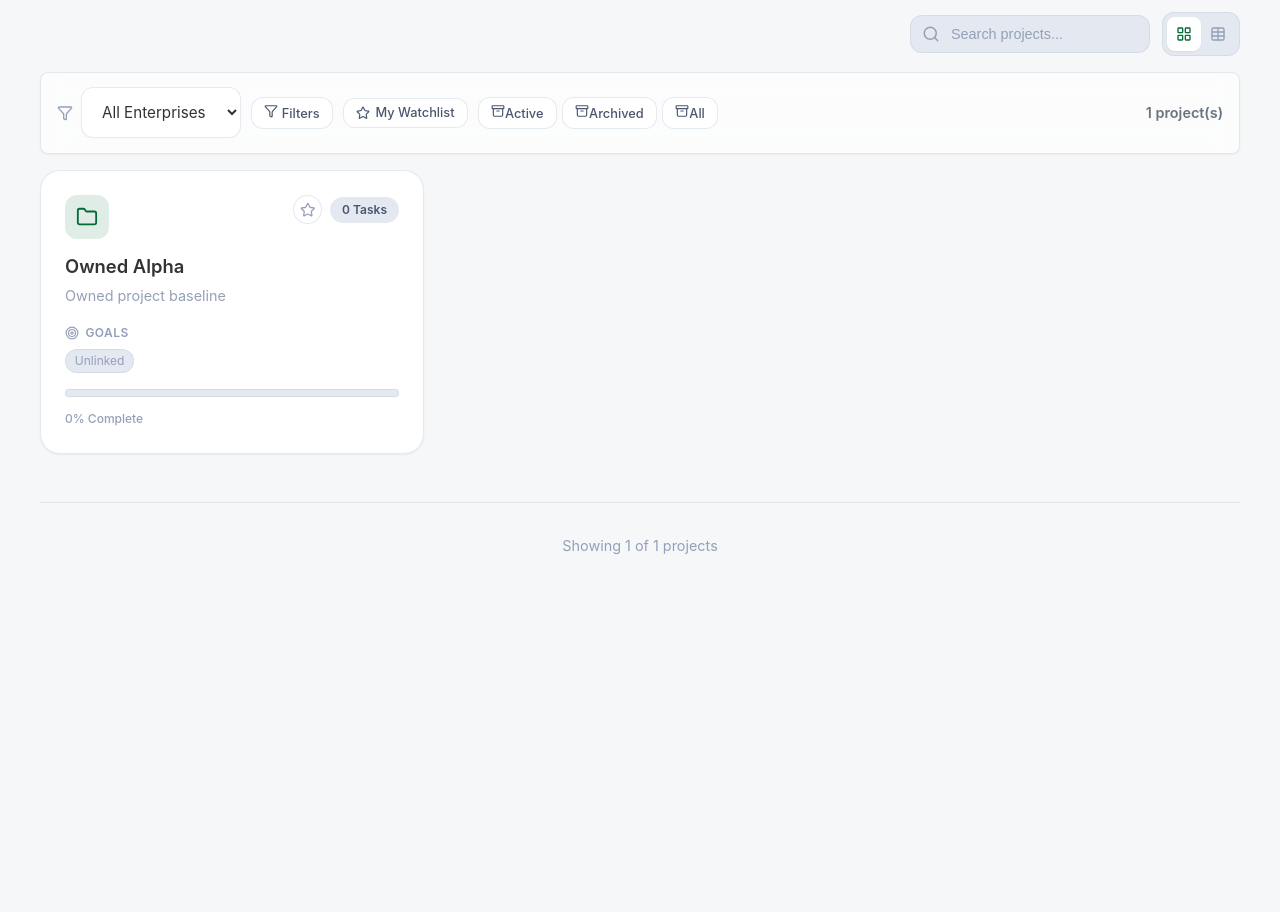
it: KanbanView ownership filtering › falls back to the current project list when an ownership-filter request fails
Click the button "Filters". click: (292, 113)
box: [251,97,333,129]
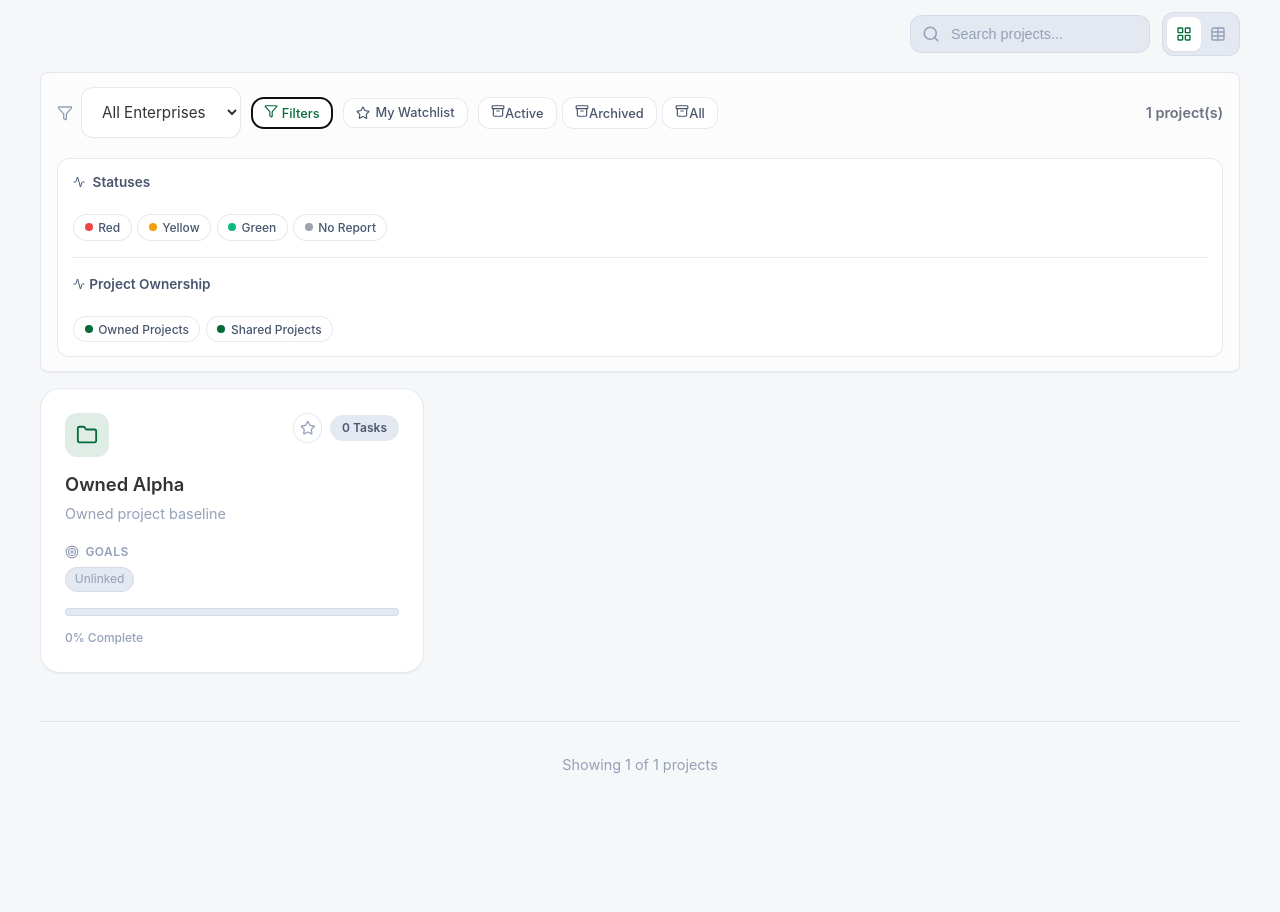
Click the button "Owned Projects". click: (137, 329)
box: [73,316,200,342]
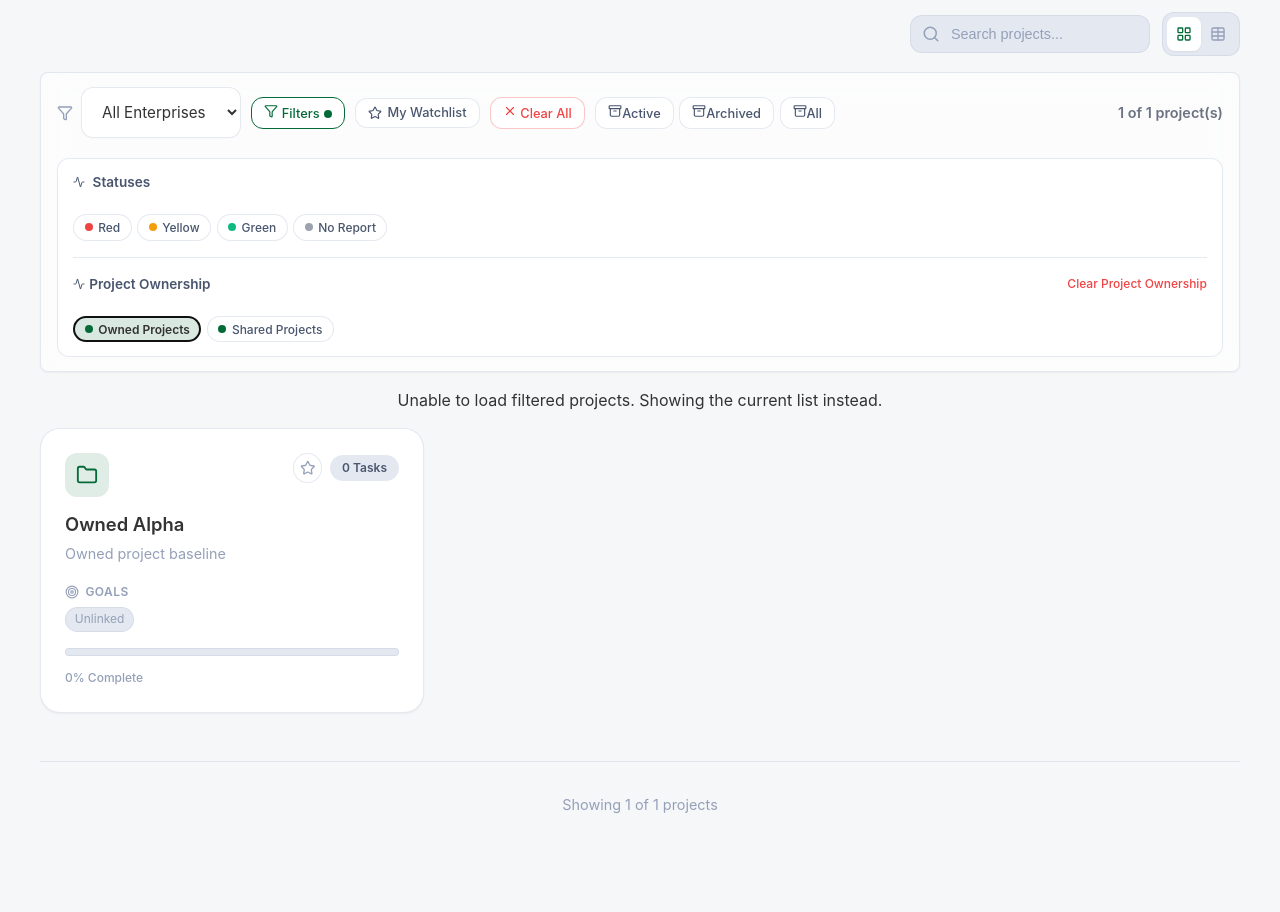
Check: the heading "Owned Alpha" is shown, box [65,513,184,535]
Check: the text "Unable to load filtered projects. Showing the current list instead." is shown, box [398,390,882,410]
